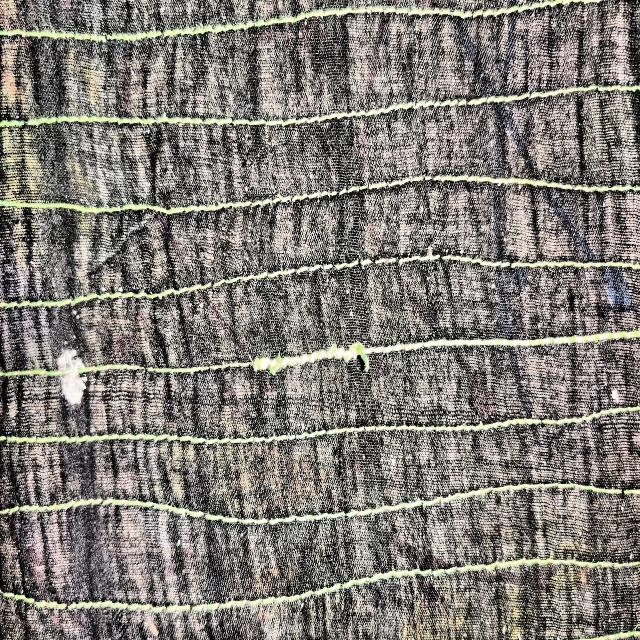Stitch: (238, 317, 377, 408)
